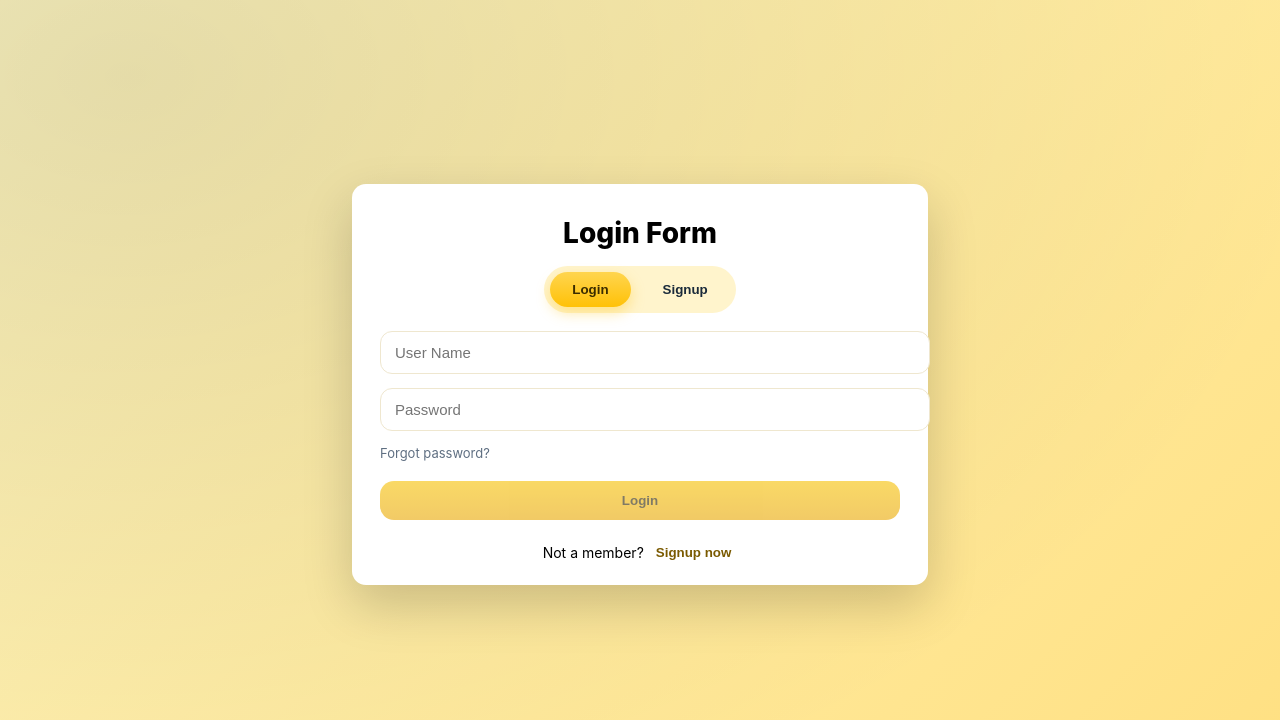
Test: LoginSignup Component › Tab Navigation Tests › should switch to signup tab when clicked
This screenshot has width=1280, height=720.
Click the tab "Signup" at (685,289), box [640,272,730,306]
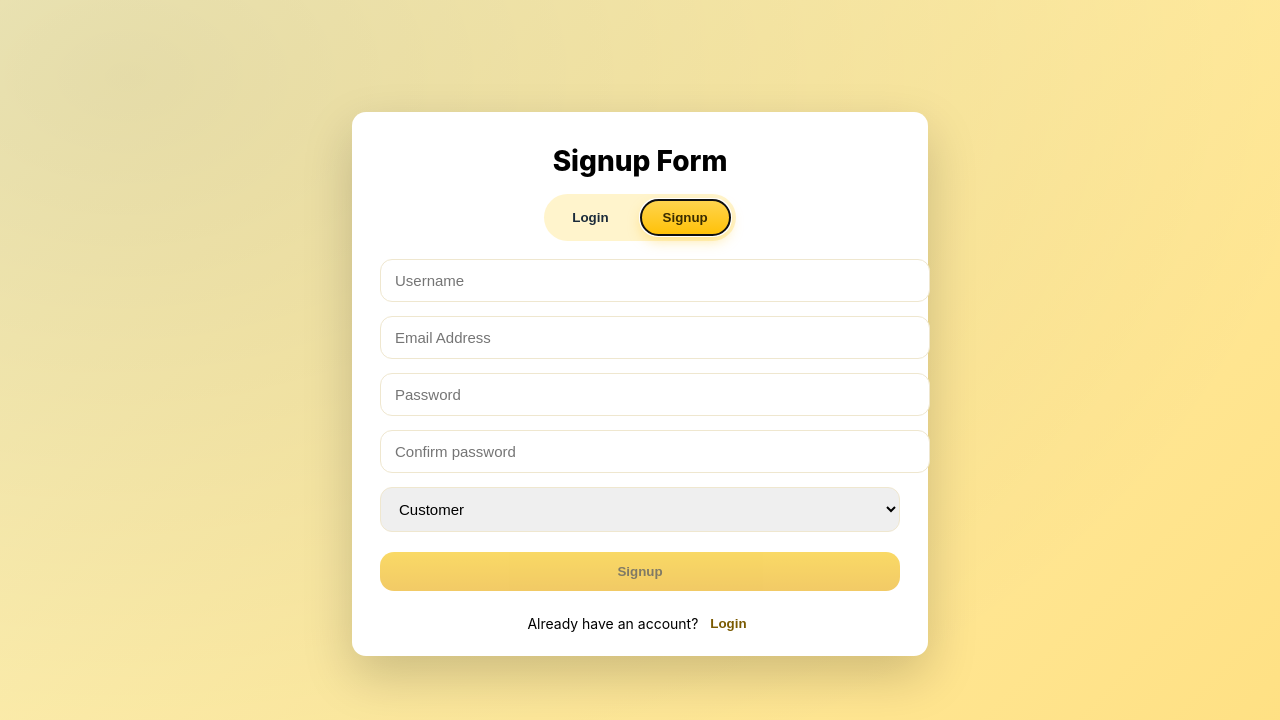
Check: the field with placeholder "Username" is shown, box [380,259,930,302]
Check: the heading "Signup Form" is shown, box [553,144,727,178]
Check: the field with placeholder "Email Address" is shown, box [380,316,930,359]
